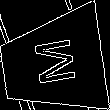M_W: (27, 37, 78, 90)
